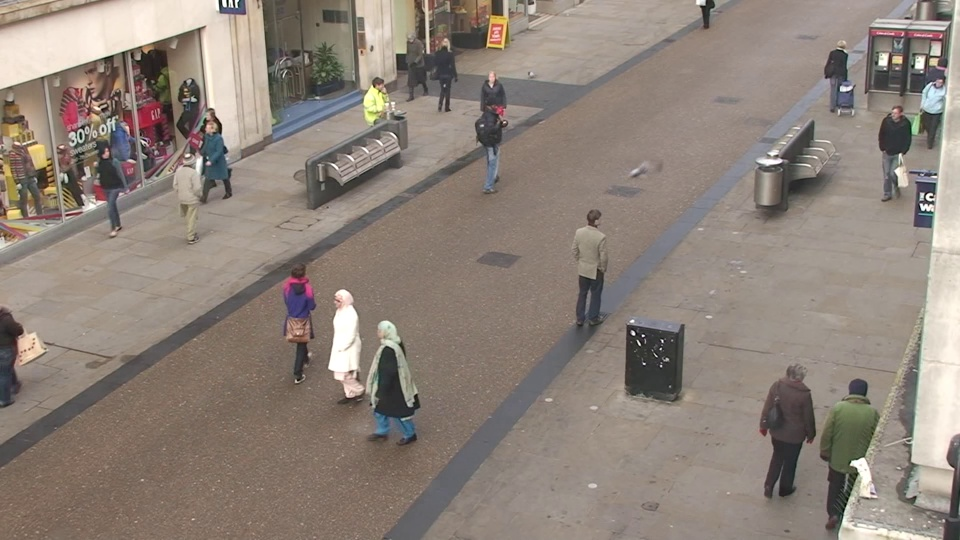pedestrian: (823, 368, 885, 534), (764, 351, 822, 510), (363, 314, 415, 461), (323, 281, 373, 420), (277, 255, 326, 386), (575, 204, 613, 324), (93, 140, 138, 239), (172, 148, 213, 250), (872, 102, 915, 198), (911, 74, 955, 164), (918, 55, 960, 142), (197, 116, 234, 209), (195, 104, 232, 194), (477, 95, 508, 185), (366, 75, 397, 159), (823, 38, 856, 115), (479, 67, 508, 149), (433, 36, 460, 109), (401, 30, 427, 101)
